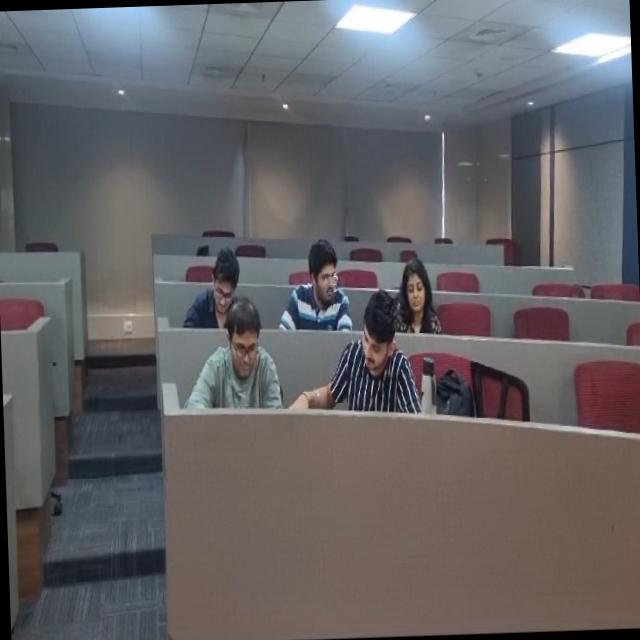cheating: (329, 294, 420, 417), (217, 306, 277, 402), (294, 233, 351, 329), (395, 259, 443, 334)
non-cheating: (188, 242, 248, 320)
